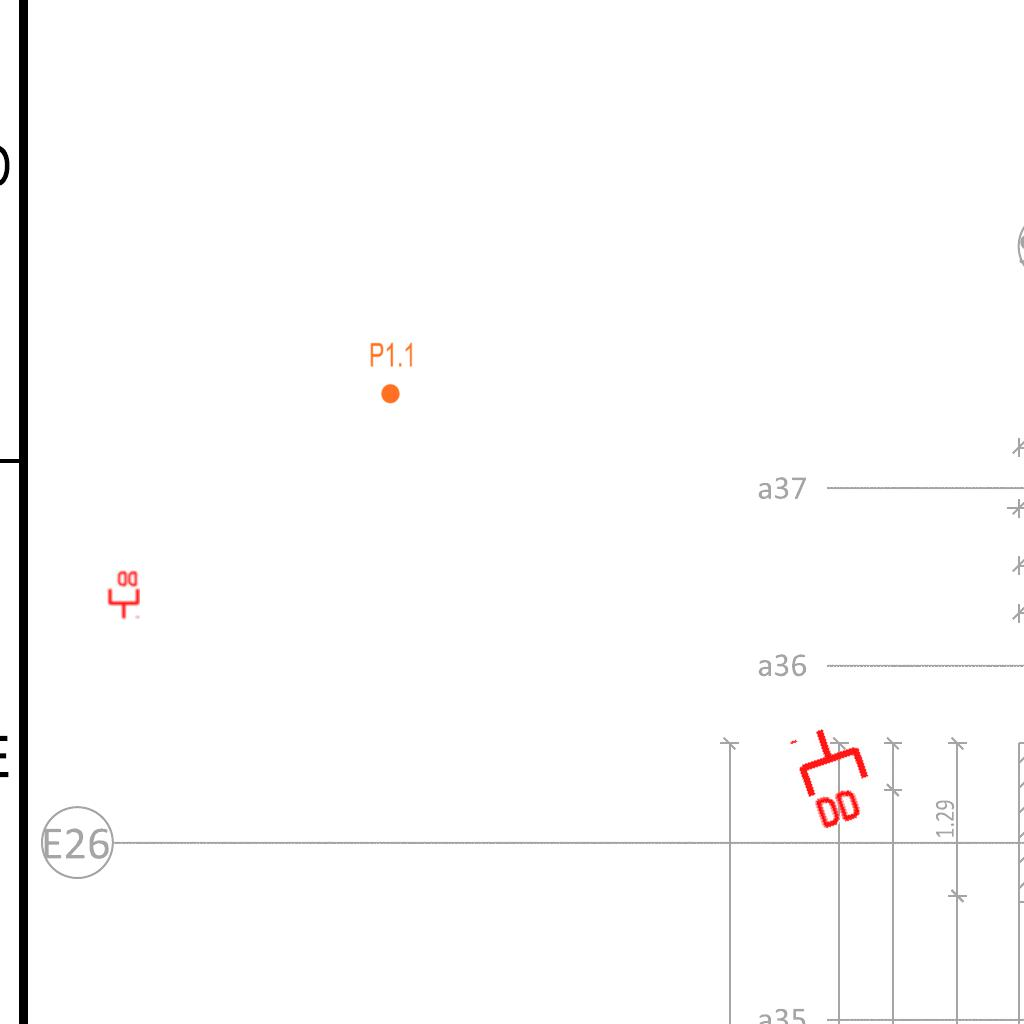Datenanschluss_zweifach: (787, 715, 886, 836), (106, 569, 140, 620)
Downlight_LED_Einbauleuchten_Flur: (369, 341, 415, 405)
